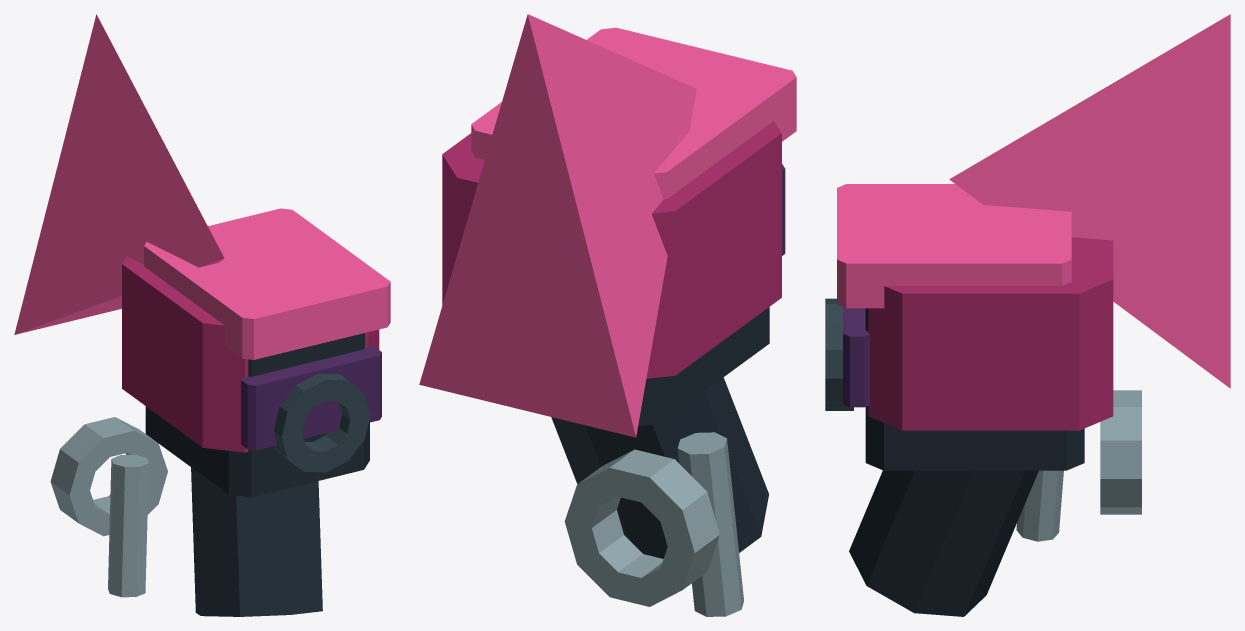
The model's file is enemy_striker_upper_arm_l.obj.
3 renders of one model, left to right at view 1: azimuth 30°, elevation 25°; view 2: azimuth 150°, elevation 25°; view 3: azimuth 270°, elevation 25°, orthographic. The views are drawn at different scales.
Size of the model in its own units: 0.535 by 1.21 by 0.7775.
